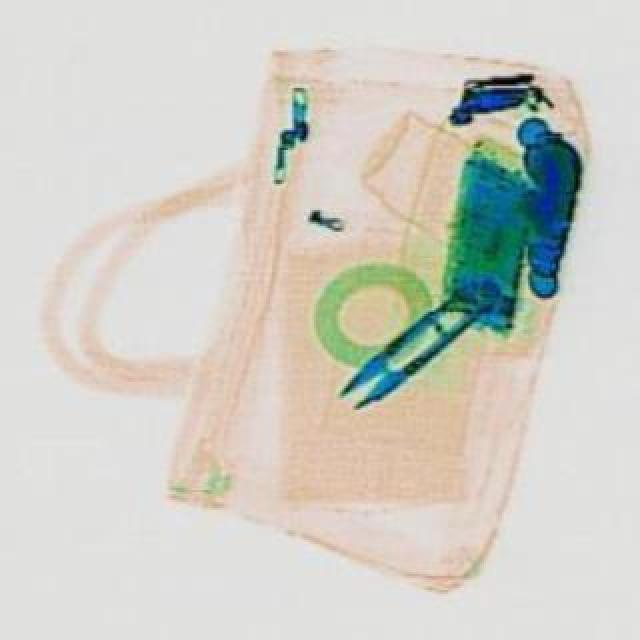pliers: (326, 262, 508, 416)
